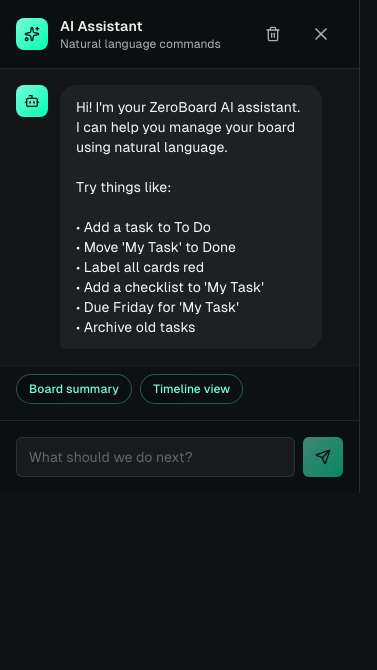
Test: AI shared-board permissions › keeps viewer board commands read-only and does not claim an edit succeeded
Type "Update this card" into the field with placeholder "What should we do next?". click: (156, 457)
box: [16,437,295,477]
Then press Enter
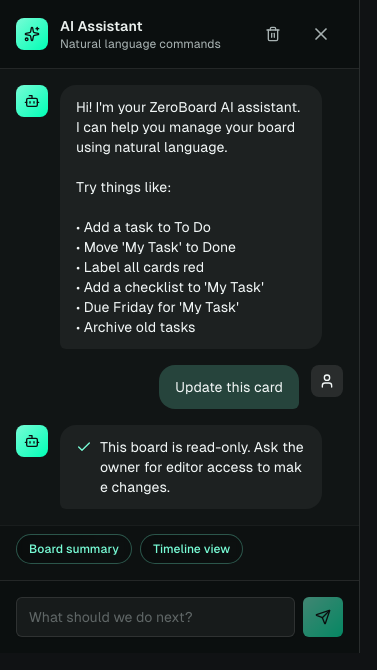
Now the text "This board is read-only. Ask the owner for editor access to make changes." is shown, box [100,437,306,497]
